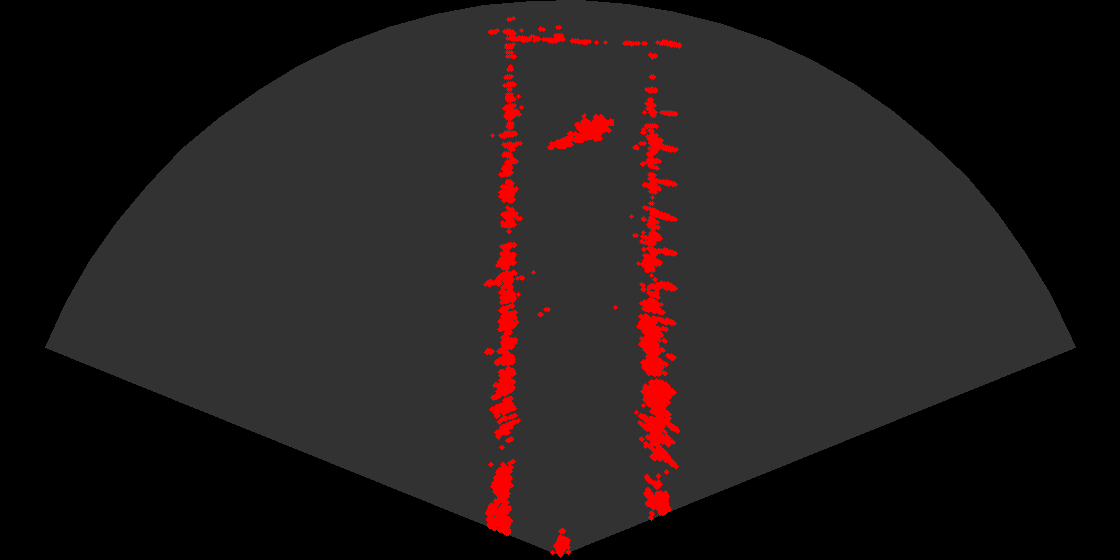frogman: (546, 107, 614, 154)
